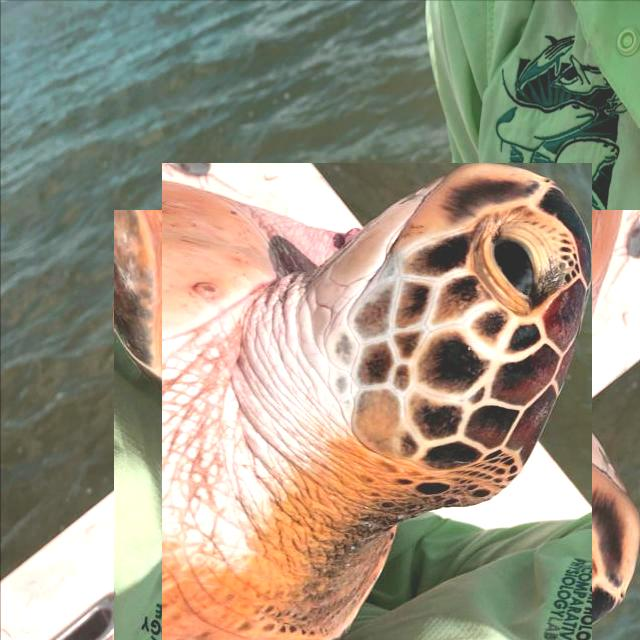Sea turtle: (138, 186, 615, 640)
